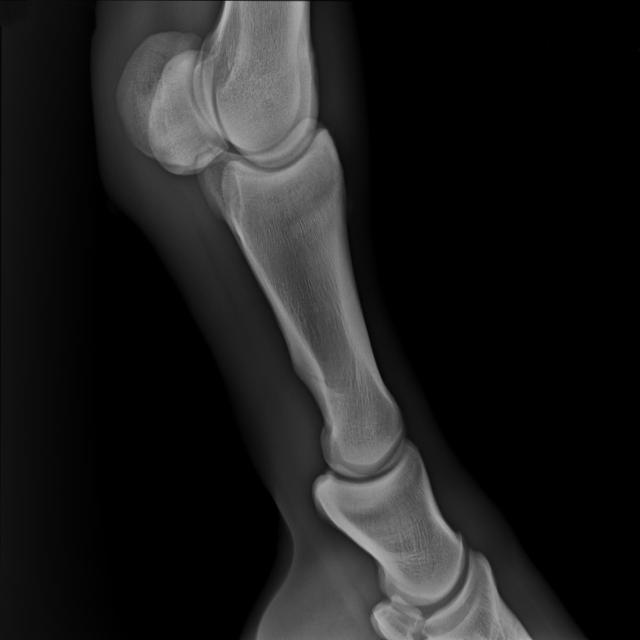joint-ht8A: (111, 1, 384, 286)
